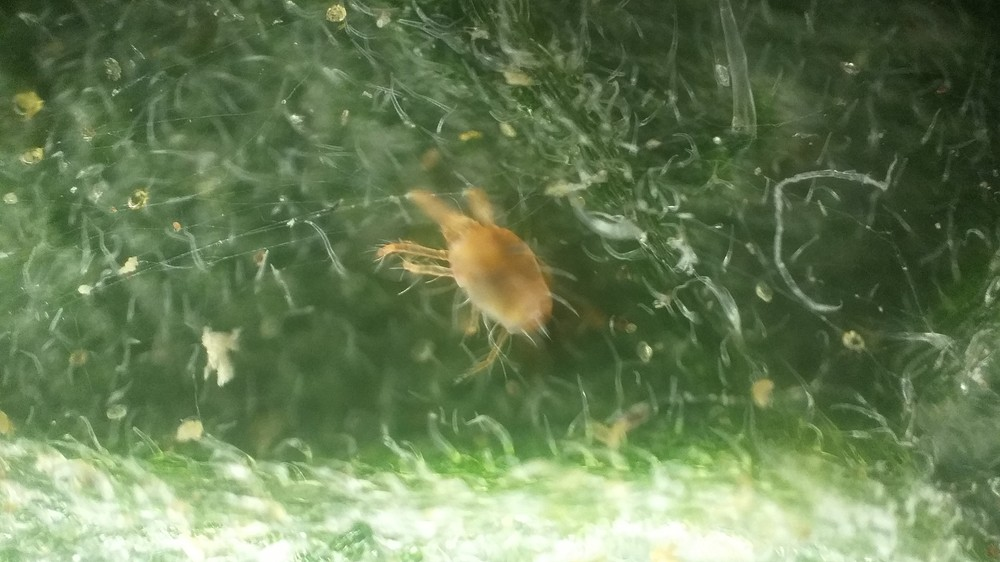Aracnido Rojo: (364, 172, 604, 401)
